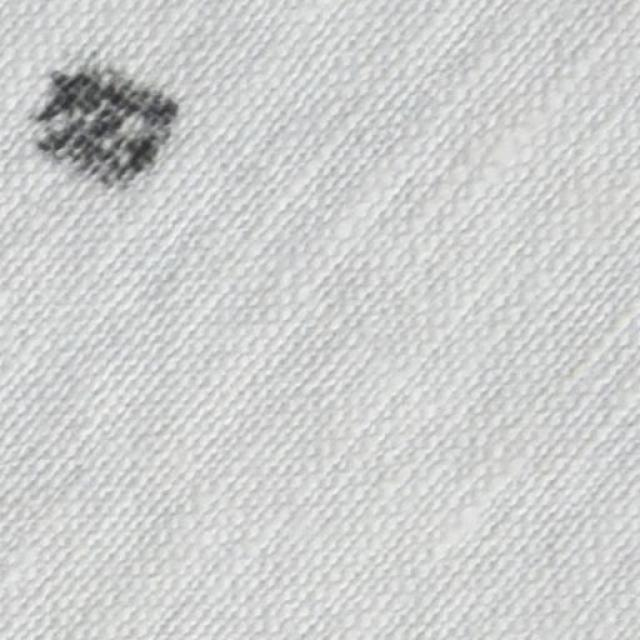Stain: (26, 64, 179, 176)
